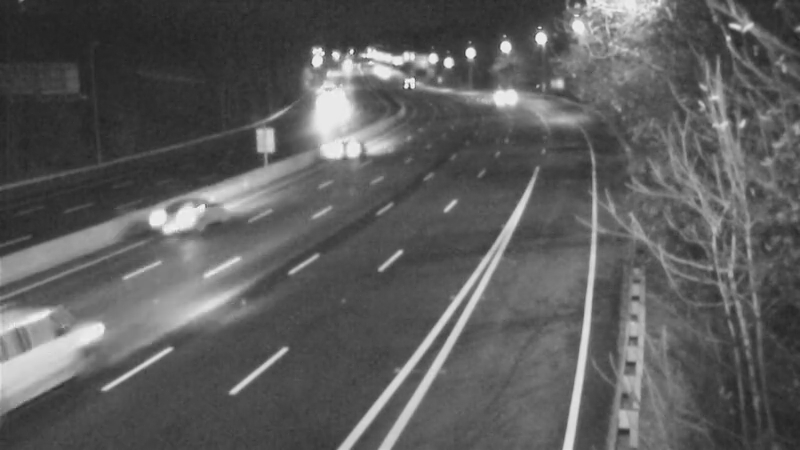vehicle: (1, 290, 101, 400), (141, 180, 221, 260), (382, 56, 432, 106), (477, 72, 527, 122), (327, 125, 377, 175)
